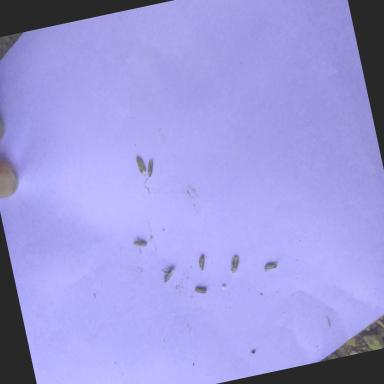pbw: (228, 254, 242, 274), (134, 152, 146, 174), (160, 266, 176, 282), (196, 253, 210, 271), (144, 158, 155, 177), (132, 234, 146, 248), (263, 260, 280, 270), (194, 284, 207, 294)
